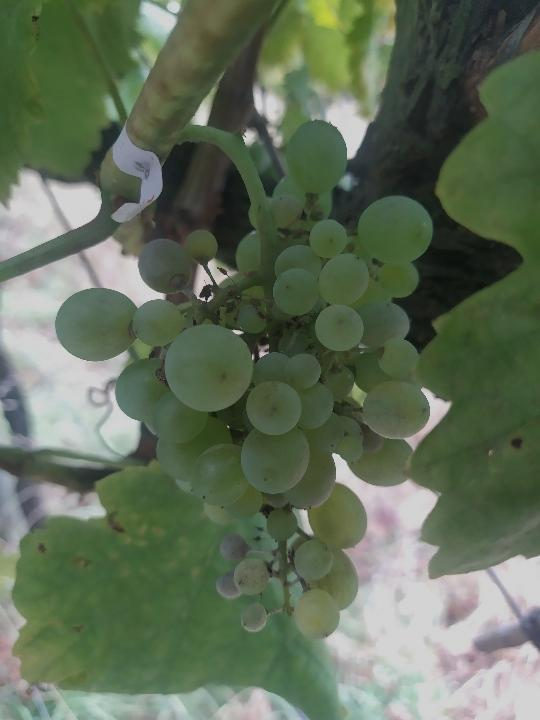grape: (53, 113, 438, 647)
